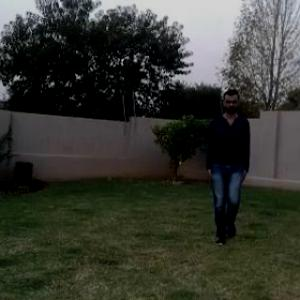follow: (205, 97, 250, 238)
